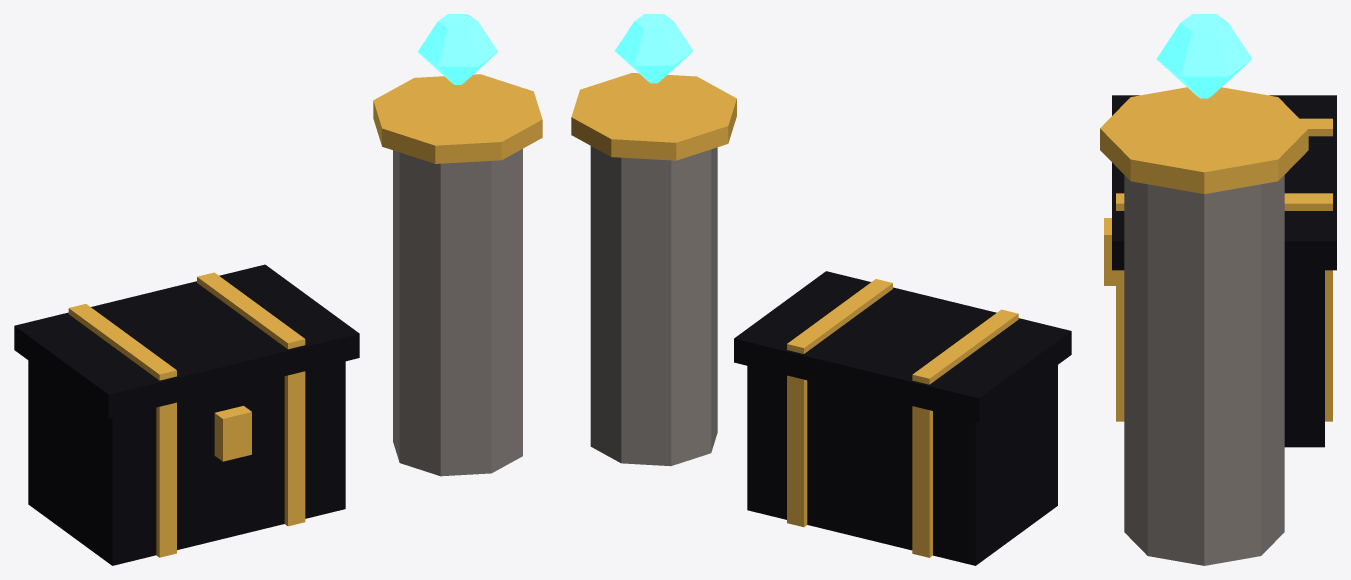
The model's file is shop_jeweler_yard.gltf.
The picture shows the model from 3 angles, left to right: view 1: azimuth 30°, elevation 25°; view 2: azimuth 150°, elevation 25°; view 3: azimuth 270°, elevation 25°; orthographic projection. The views are drawn at different scales.
Parts seen in each view (by area): view 1: ShopJewelerYardShopIron, ShopJewelerYardShopStone, ShopJewelerYardShopGold, ShopJewelerYardShopCrystal; view 2: ShopJewelerYardShopIron, ShopJewelerYardShopStone, ShopJewelerYardShopGold, ShopJewelerYardShopCrystal; view 3: ShopJewelerYardShopStone, ShopJewelerYardShopGold, ShopJewelerYardShopIron, ShopJewelerYardShopCrystal.
Part boxes in pixels (x1,y1,x2,y2): ShopJewelerYardShopIron: [14, 264, 359, 565]; ShopJewelerYardShopStone: [393, 149, 522, 476]; ShopJewelerYardShopGold: [68, 74, 542, 557]; ShopJewelerYardShopCrystal: [418, 14, 497, 84]; ShopJewelerYardShopIron: [734, 271, 1071, 565]; ShopJewelerYardShopStone: [590, 146, 717, 466]; ShopJewelerYardShopGold: [571, 73, 1018, 557]; ShopJewelerYardShopCrystal: [615, 14, 693, 83]; ShopJewelerYardShopStone: [1124, 175, 1284, 565]; ShopJewelerYardShopGold: [1100, 87, 1332, 421]; ShopJewelerYardShopIron: [1112, 95, 1336, 447]; ShopJewelerYardShopCrystal: [1156, 14, 1252, 98].
Size of what is drawn, in the model's own units: 1.59 by 1.4 by 0.59.
